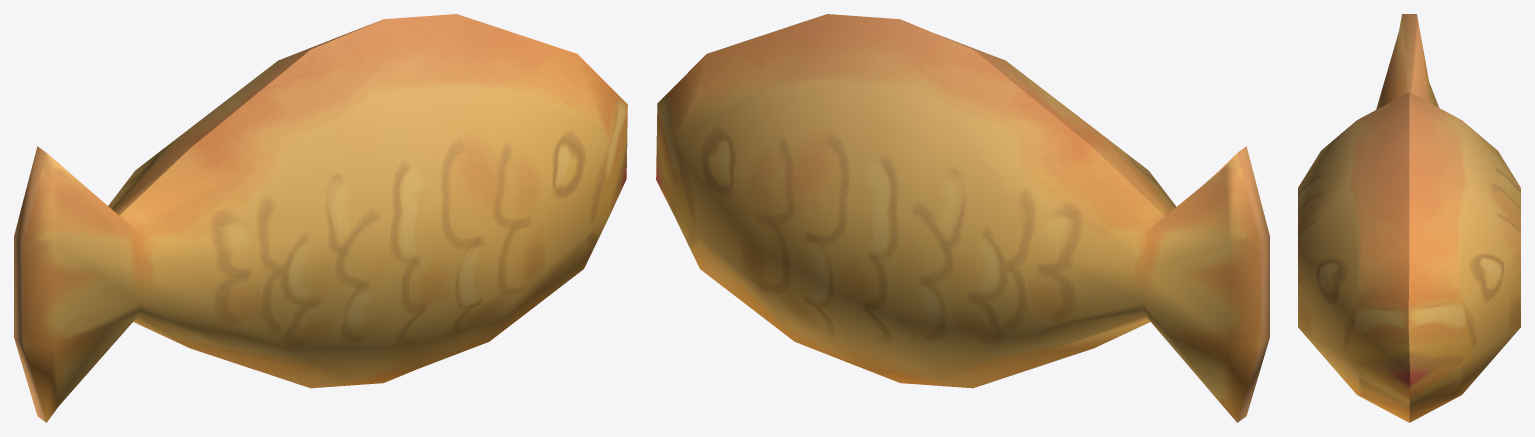
File: taiyaki.fbx
3 renders of one model, left to right at view 1: azimuth 30°, elevation 25°; view 2: azimuth 150°, elevation 25°; view 3: azimuth 270°, elevation 25°, orthographic. The views are drawn at different scales.
Parts seen in each view (by area): view 1: pCube1; view 2: pCube1; view 3: pCube1.
Boxes of the visible parts, left/top/right/bottom form: pCube1: left=14, top=14, right=627, bottom=422; pCube1: left=656, top=14, right=1269, bottom=422; pCube1: left=1298, top=14, right=1520, bottom=422.
Size of the model in its own units: 40.83 by 23.34 by 16.05.
1 material, 1 textured.
